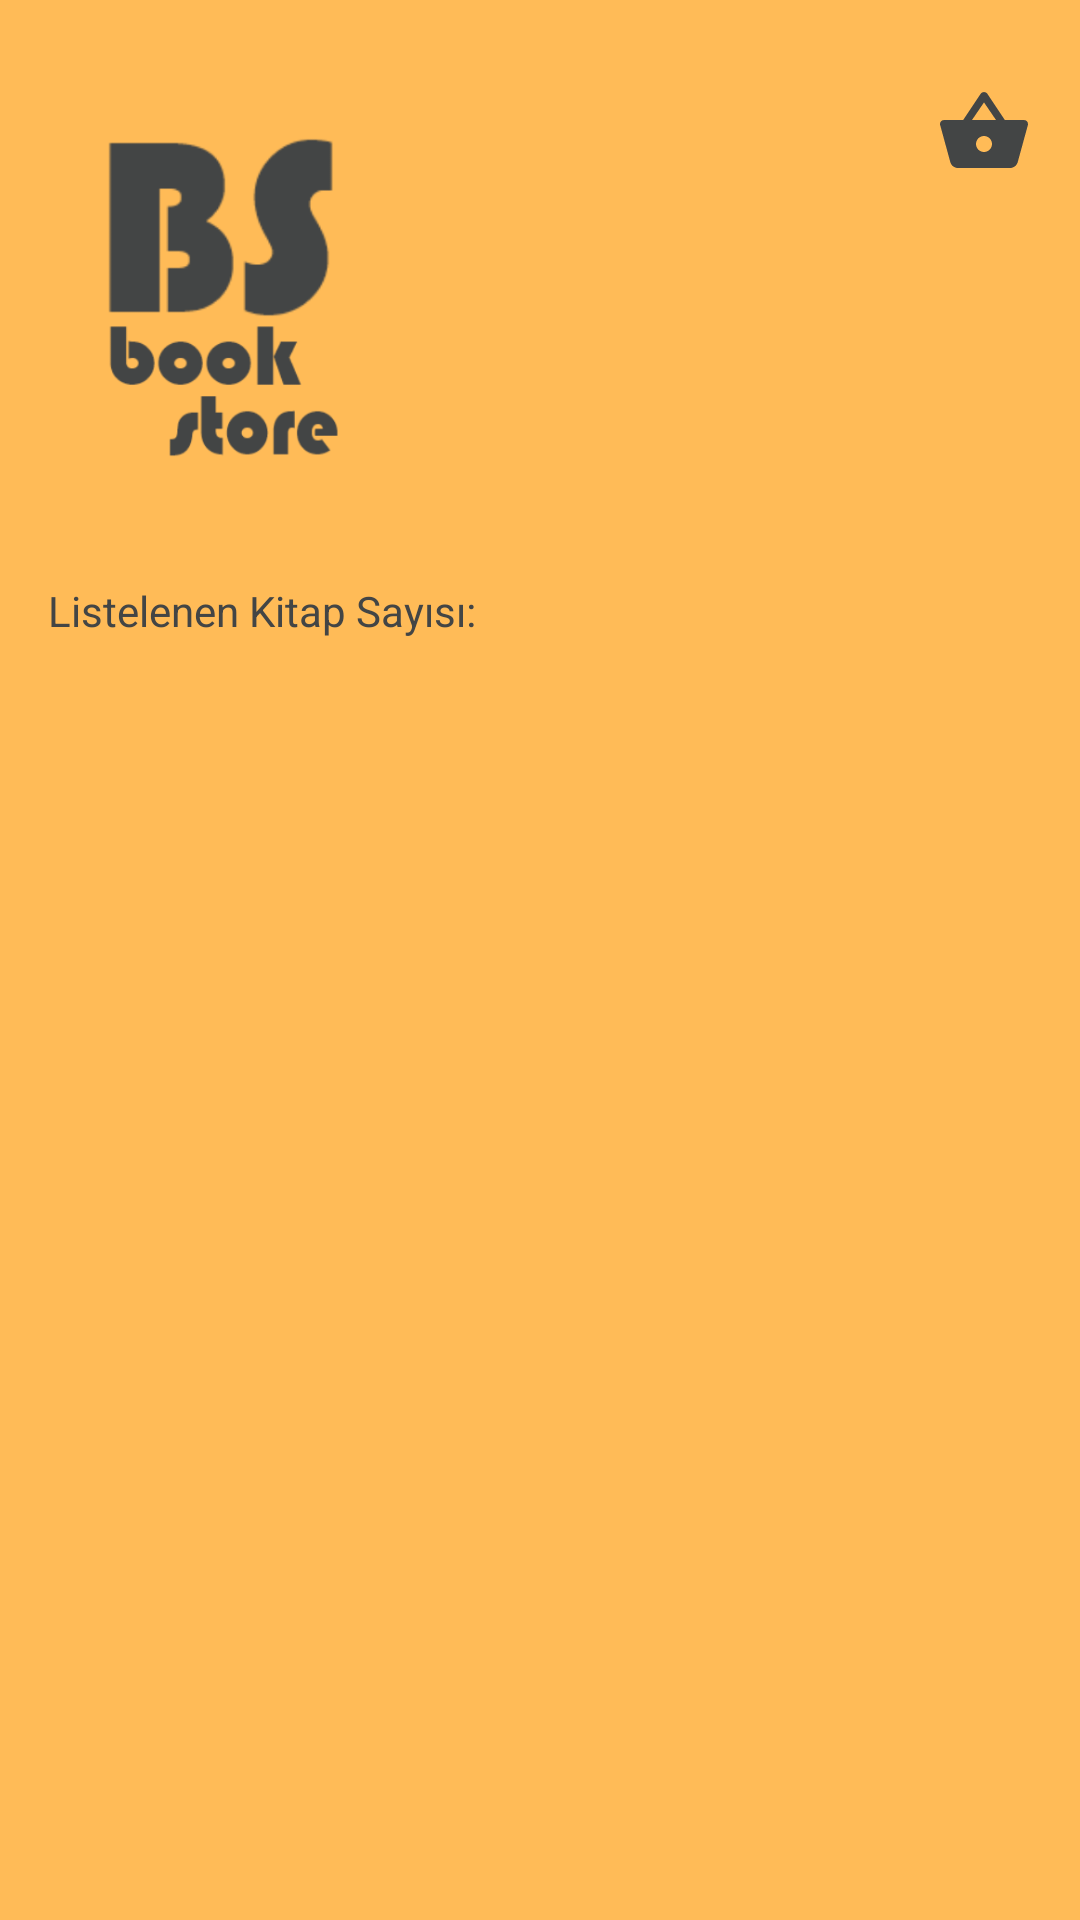

Named icons in this screenshot (1080 x 1920) and their centers, point (x, y):
shop basket iv: point (984, 130)
